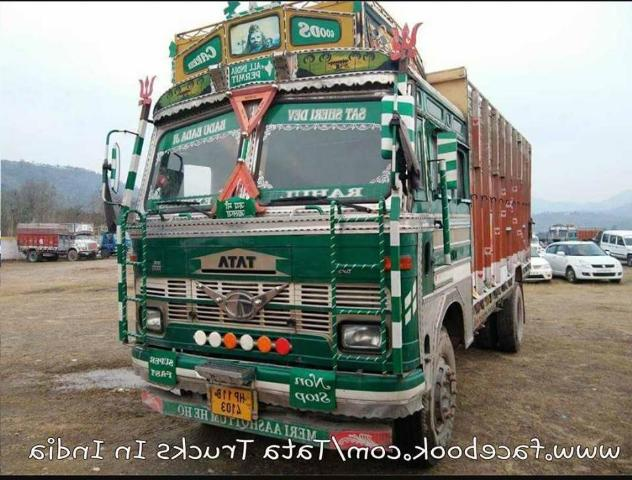car: (544, 236, 623, 288)
truck: (105, 4, 534, 471), (12, 216, 99, 267)
van: (607, 226, 632, 266)
